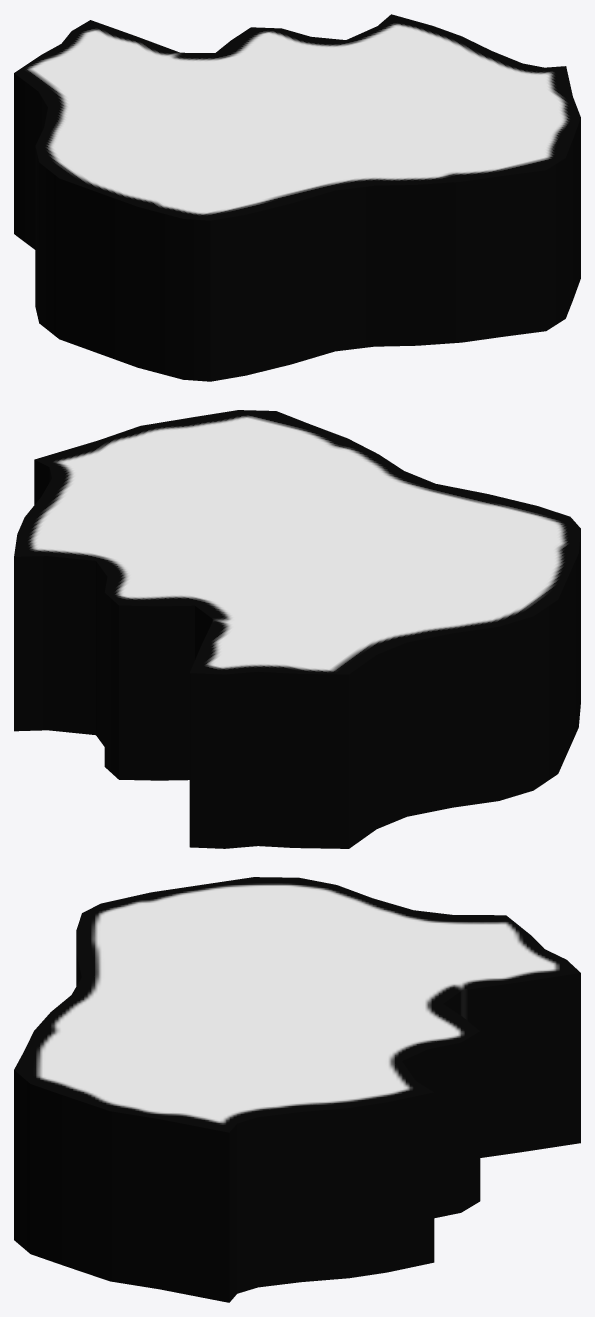
3 renders of one model, top to bottom at view 1: azimuth 30°, elevation 25°; view 2: azimuth 150°, elevation 25°; view 3: azimuth 270°, elevation 25°, orthographic. The views are drawn at different scales.
Parts seen in each view (by area): view 1: polySurface22; view 2: polySurface22; view 3: polySurface22.
Part boxes in pixels (x1,y1,x2,y2): polySurface22: (14,14,580,381); polySurface22: (14,410,580,848); polySurface22: (14,877,580,1302).
Bounding box in the file's own units: 1.61 × 0.5 × 1.51.
